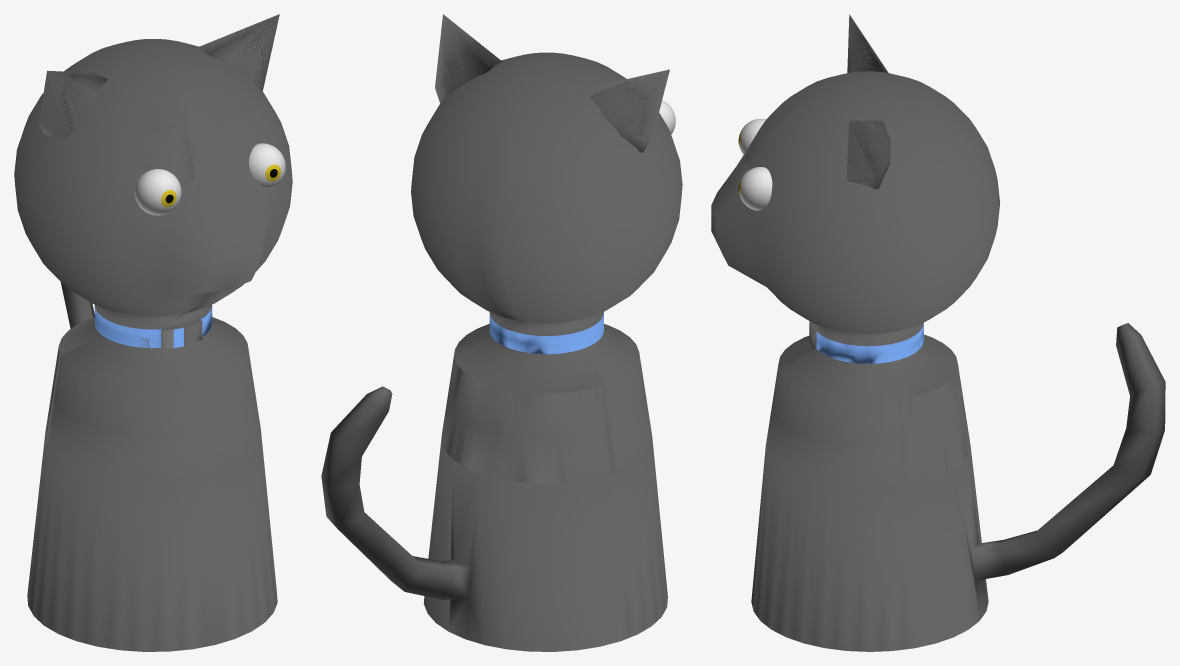
The model's file is cat1.glb.
3 renders of one model, left to right at view 1: azimuth 30°, elevation 25°; view 2: azimuth 150°, elevation 25°; view 3: azimuth 270°, elevation 25°, orthographic. The views are drawn at different scales.
Parts seen in each view (by area): view 1: Sphere, Cone, Sphere.001; view 2: Sphere, Cone; view 3: Sphere, Cone, Sphere.001.
Part boxes in pixels (left/top/right/bottom): Sphere: left=14, top=39, right=292, bottom=651; Cone: left=39, top=14, right=279, bottom=138; Sphere.001: left=134, top=143, right=285, bottom=215; Sphere: left=321, top=52, right=682, bottom=651; Cone: left=435, top=14, right=669, bottom=152; Sphere: left=711, top=71, right=1165, bottom=651; Cone: left=846, top=14, right=890, bottom=189; Sphere.001: left=738, top=118, right=772, bottom=210.
Bounding box in the file's own units: 2 × 4.64 × 3.44.
